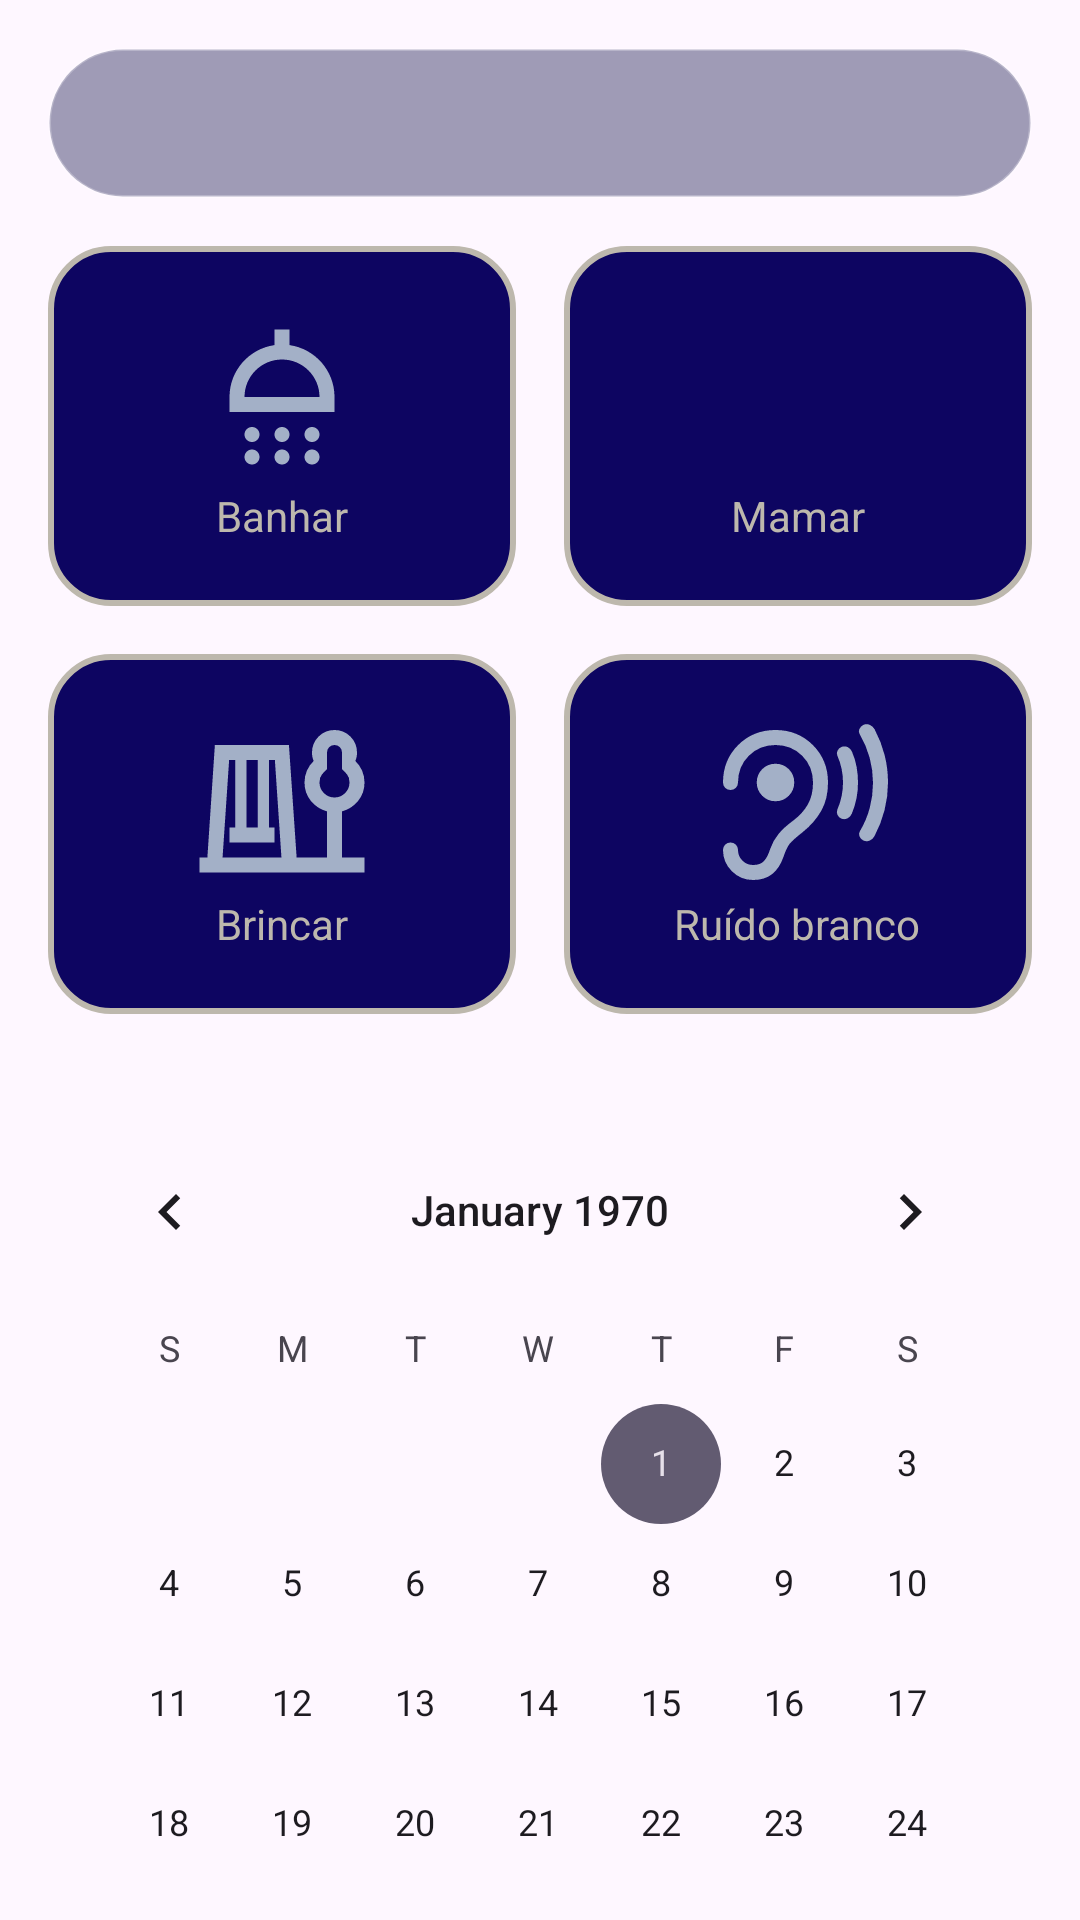

Named icons in this screenshot (1080px x 1920px) and their centers, (x,y):
ear sound: (805,802)
playground: (282,801)
